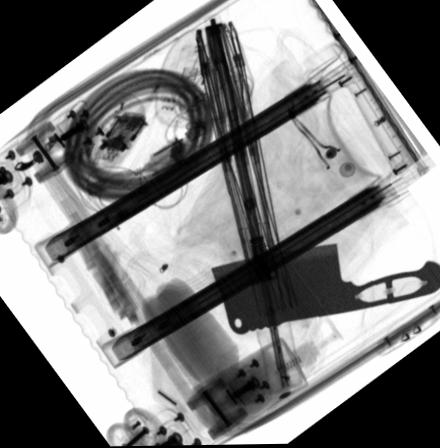Knife: (211, 243, 440, 335)
